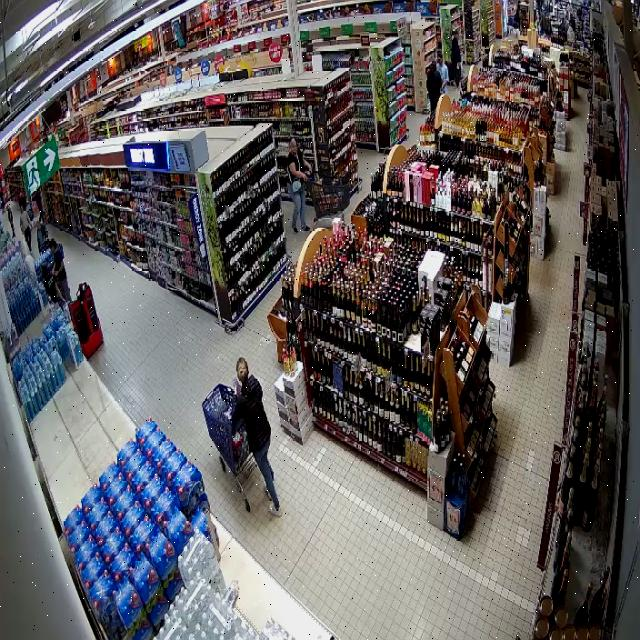hands: (303, 175, 308, 183)
person: (233, 358, 280, 516), (286, 138, 312, 232), (49, 238, 70, 301)
